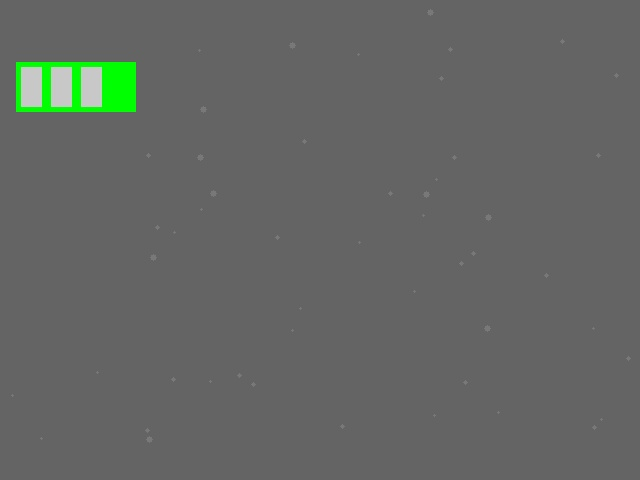bus: (16, 62, 135, 111)
